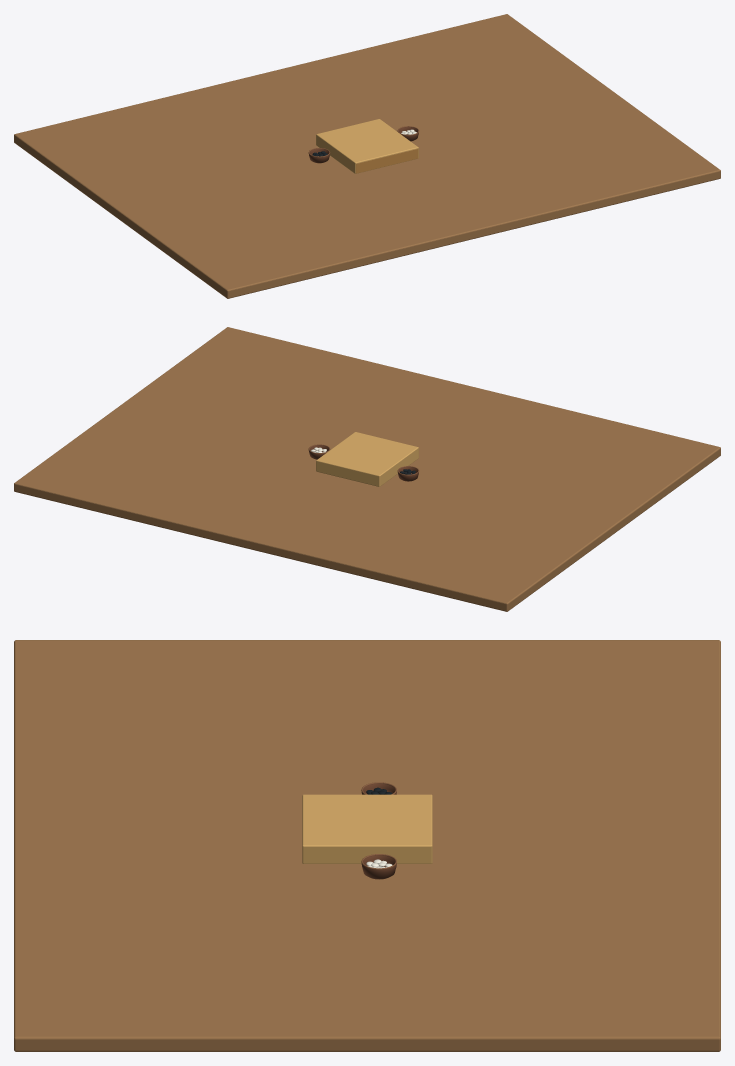
File: table.glb
3 renders of one model, top to bottom at view 1: azimuth 30°, elevation 25°; view 2: azimuth 150°, elevation 25°; view 3: azimuth 270°, elevation 25°, orthographic. The views are drawn at different scales.
Parts seen in each view (by area): view 1: Table, Board, End grain; view 2: Table, Board; view 3: Table, Board.
Part boxes in pixels (box(x1,y1,x2,y2)): Table: box(14, 14, 720, 298); Board: box(316, 119, 418, 173); End grain: box(356, 149, 418, 173); Table: box(14, 327, 720, 611); Board: box(316, 432, 418, 486); Table: box(14, 640, 720, 1051); Board: box(302, 794, 432, 863).
Size of the model in its own units: 8 by 0.315 by 6.
